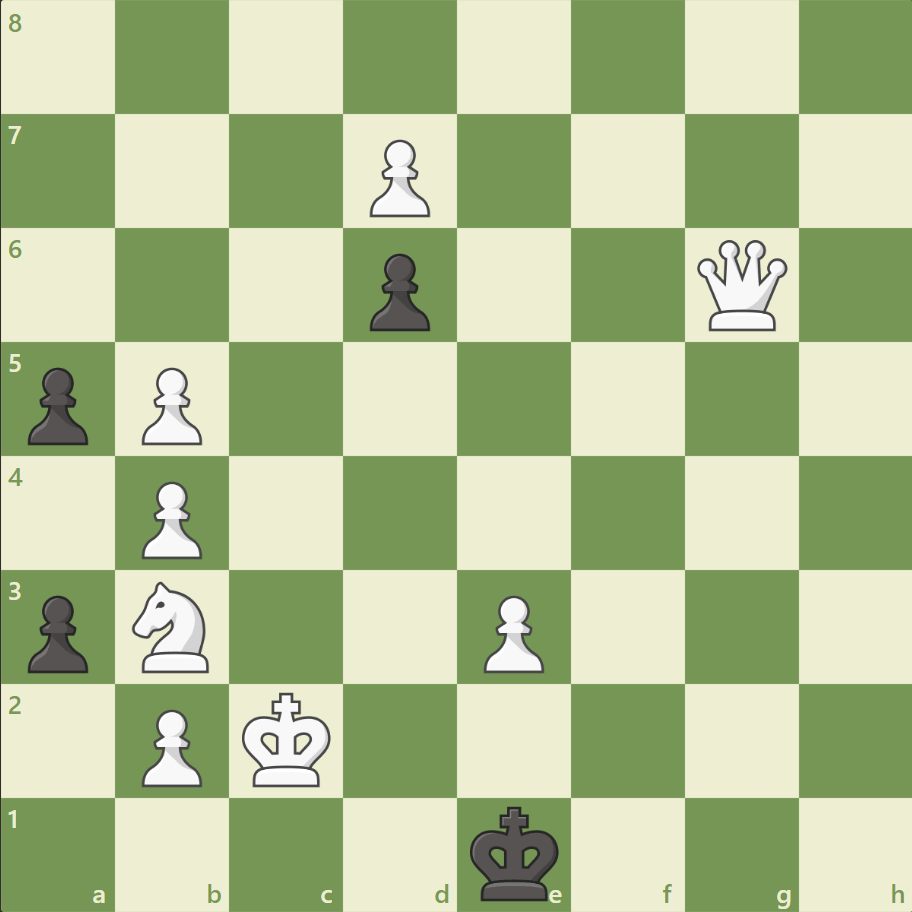K: (238, 685, 338, 793)
N: (124, 575, 222, 677)
P: (133, 359, 208, 450), (133, 473, 208, 564), (474, 586, 549, 677), (133, 700, 208, 791), (361, 132, 435, 223)
Q: (691, 236, 790, 335)
k: (465, 798, 565, 906)
p: (20, 359, 95, 450), (20, 586, 95, 677), (361, 246, 435, 337)
